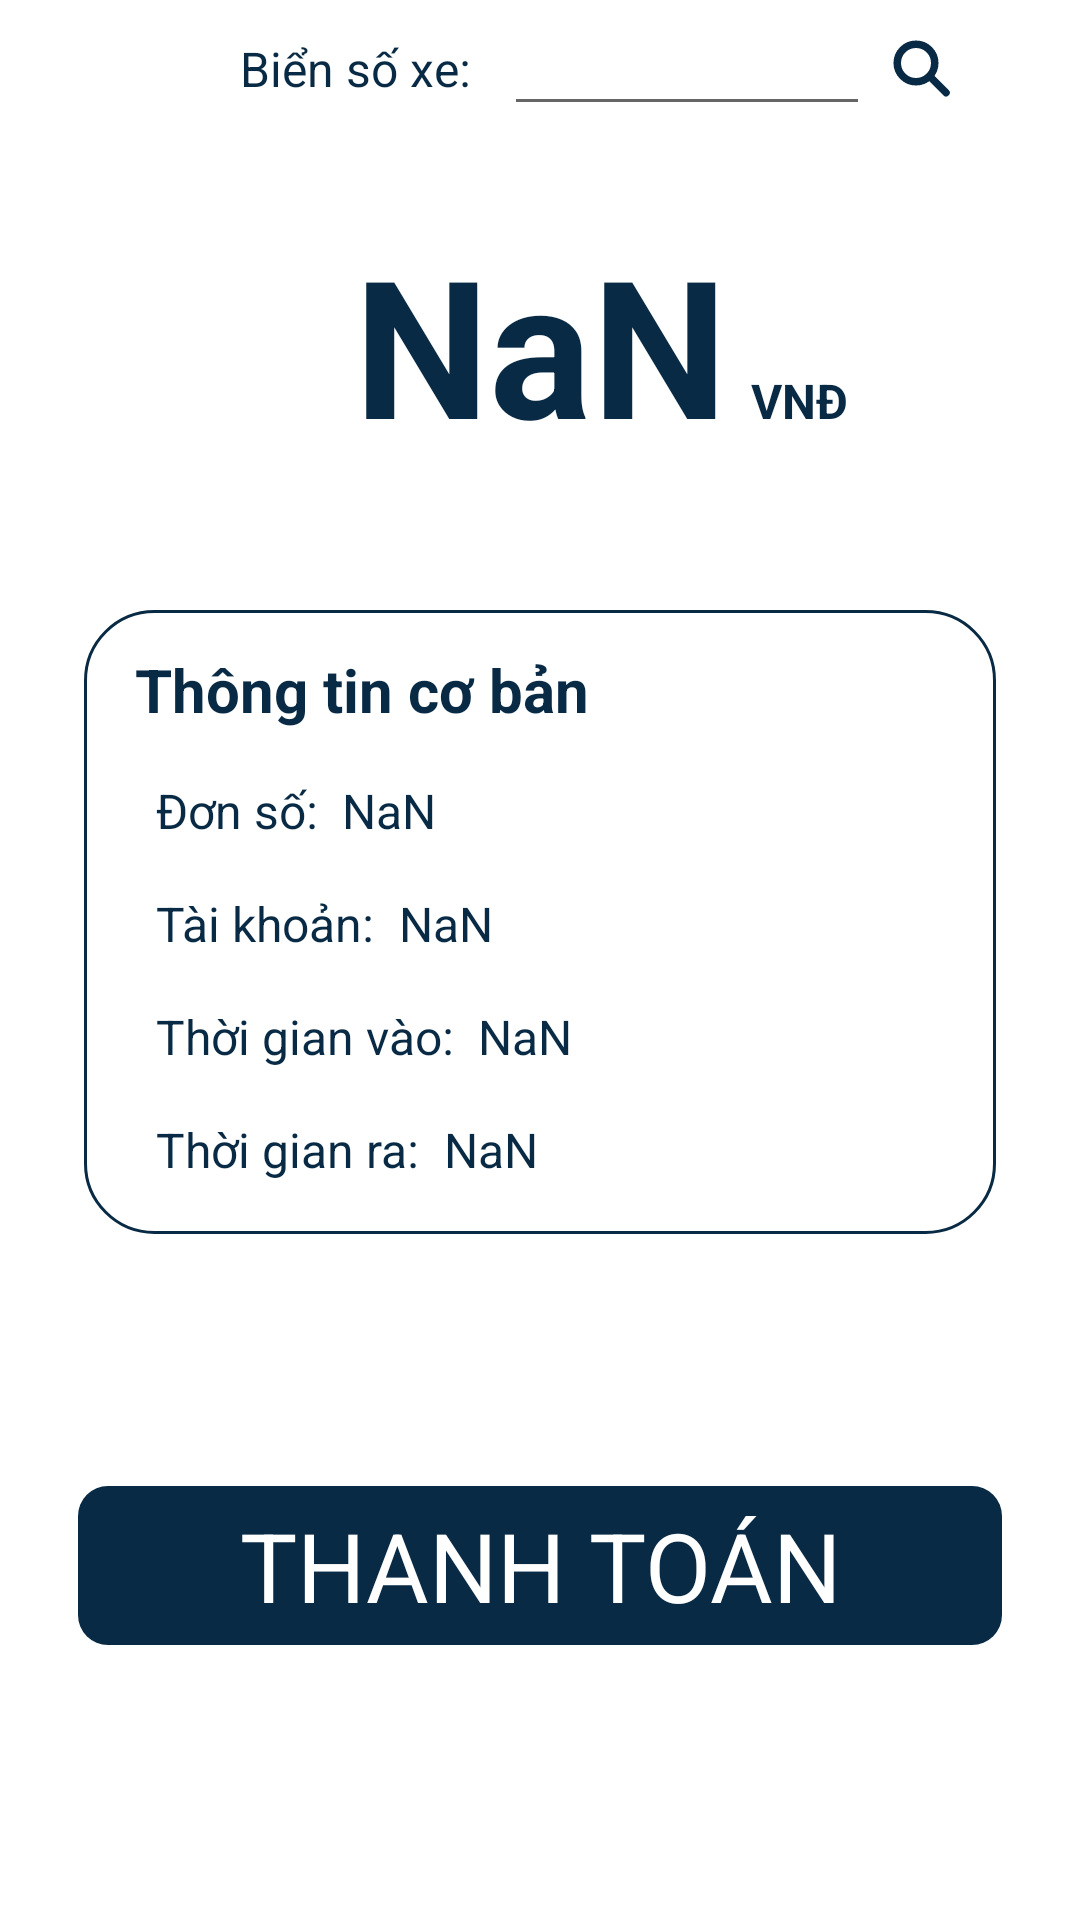

Screen size 1080*1920. Icon name, then its center in pixels as (x,y):
find: (921,68)
